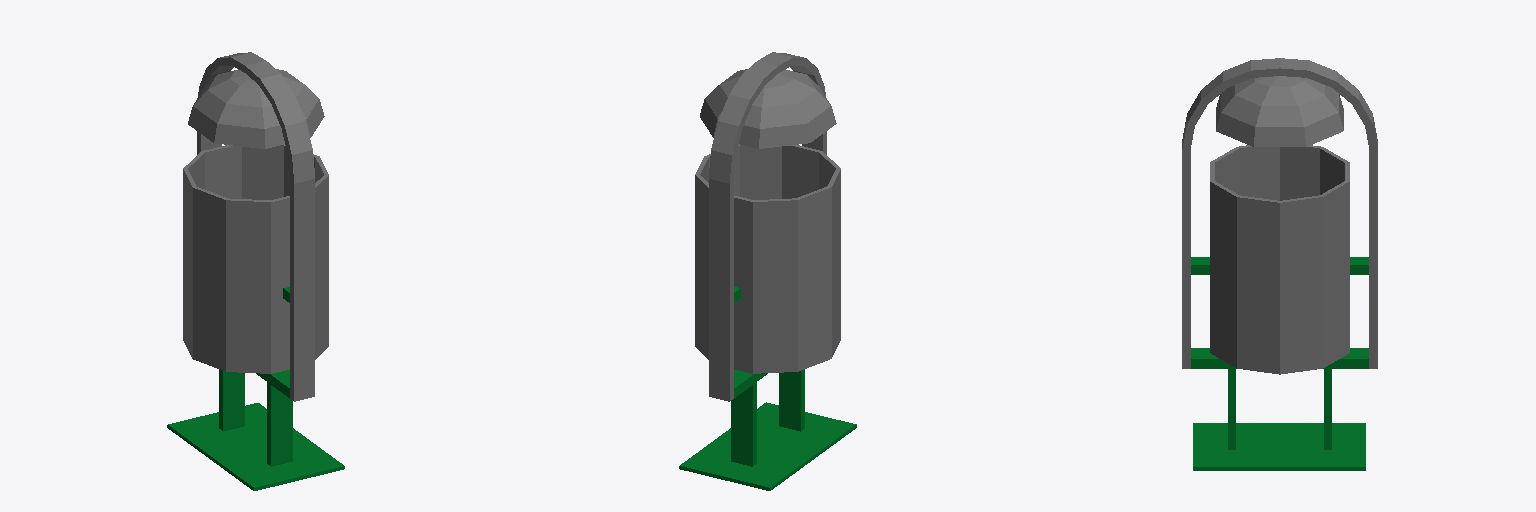
File: Muelleimer.obj
The picture shows the model from 3 angles: view 1: azimuth 30°, elevation 25°; view 2: azimuth 150°, elevation 25°; view 3: azimuth 270°, elevation 25°; orthographic projection.
Parts seen in each view (by area): view 1: Muelleimer1; view 2: Muelleimer1; view 3: Muelleimer1.
Boxes of the visible parts, <box> form: Muelleimer1: <box>167,52,344,490</box>; Muelleimer1: <box>679,52,856,490</box>; Muelleimer1: <box>1182,58,1377,470</box>.
Bounding box in the file's own units: 40.44 × 117 × 53.91.